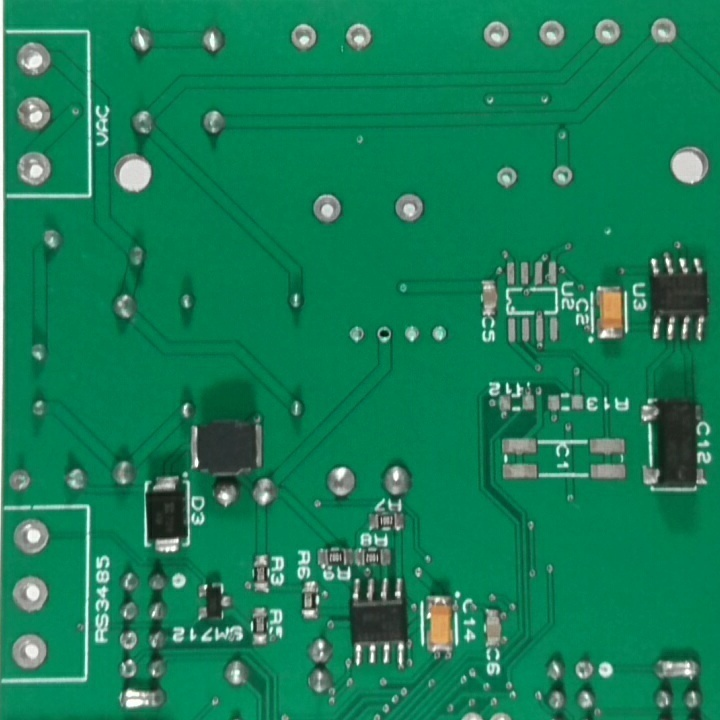F: (10, 516, 54, 560), (8, 573, 54, 615), (12, 148, 57, 189), (8, 632, 52, 672), (14, 38, 55, 80), (13, 94, 54, 132), (390, 189, 430, 225), (310, 190, 344, 229), (647, 15, 681, 49), (341, 20, 377, 52), (536, 18, 570, 51), (590, 18, 625, 49), (481, 18, 515, 49), (4, 463, 35, 496), (289, 19, 317, 55), (491, 163, 521, 192), (550, 162, 579, 189), (572, 660, 597, 684), (401, 322, 423, 348), (430, 323, 453, 346), (117, 629, 139, 653), (345, 324, 367, 346), (374, 323, 395, 346)
P: (116, 685, 170, 714), (652, 656, 702, 683)
